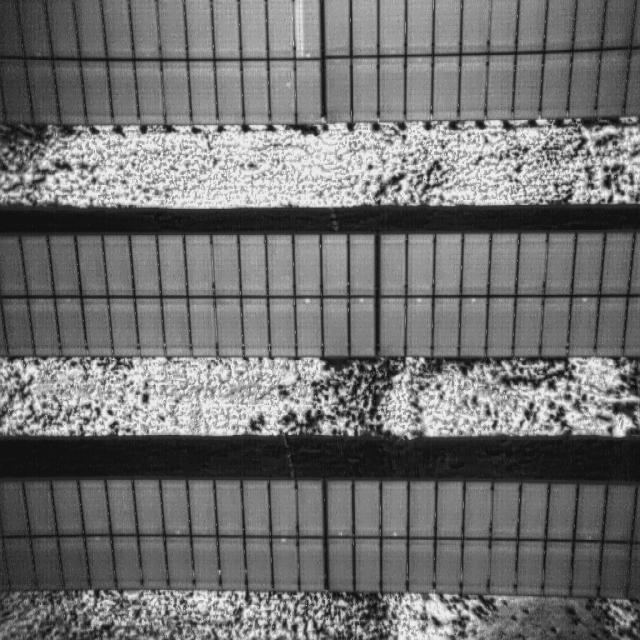diode: (294, 0, 304, 55)
